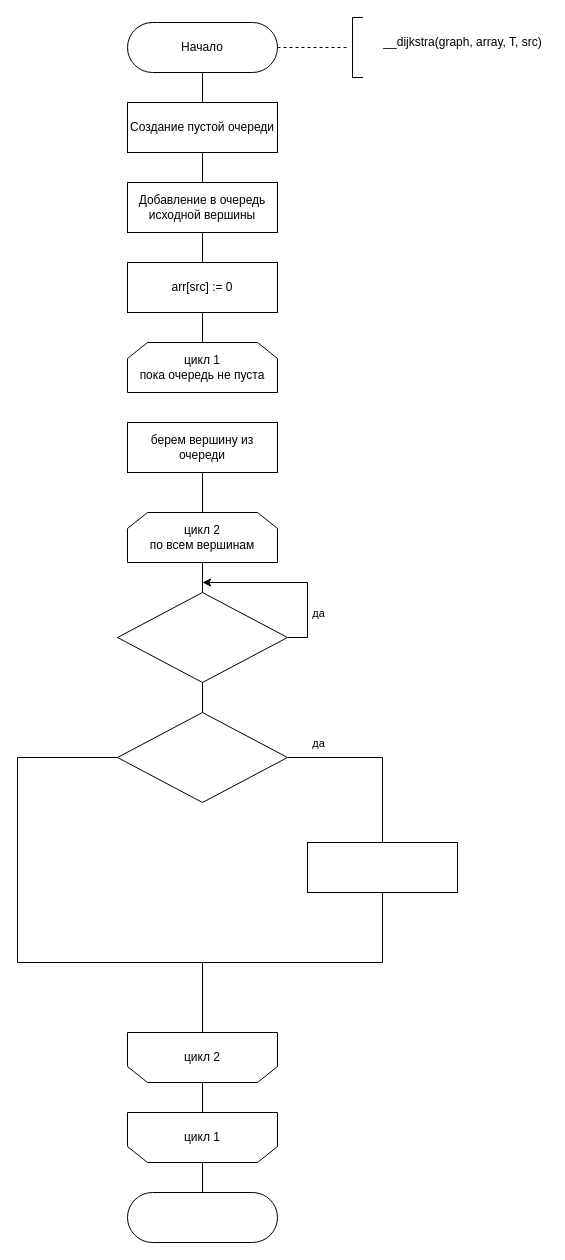
Image size: 565x1260. Some labels were removed from this diagram. The box of each missing label's shape, as (x1, y1, x2, y2) in pixels:
вершина исходная или равна вершине из очереди ?: (116, 592, 288, 682)
длина пути меньше длины в массиве ?: (116, 712, 288, 802)
Конец: (126, 1192, 278, 1242)
обновляем путь в массиве и помещаем вершину в очередь: (306, 842, 458, 892)
